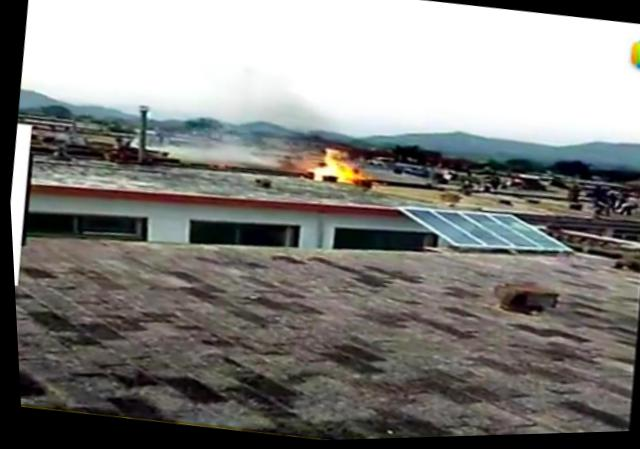fire: (310, 156, 355, 185)
